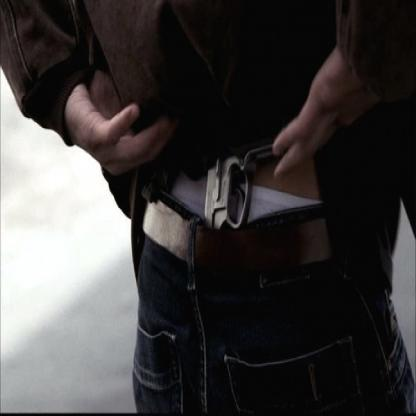Guns: (198, 124, 295, 251)
